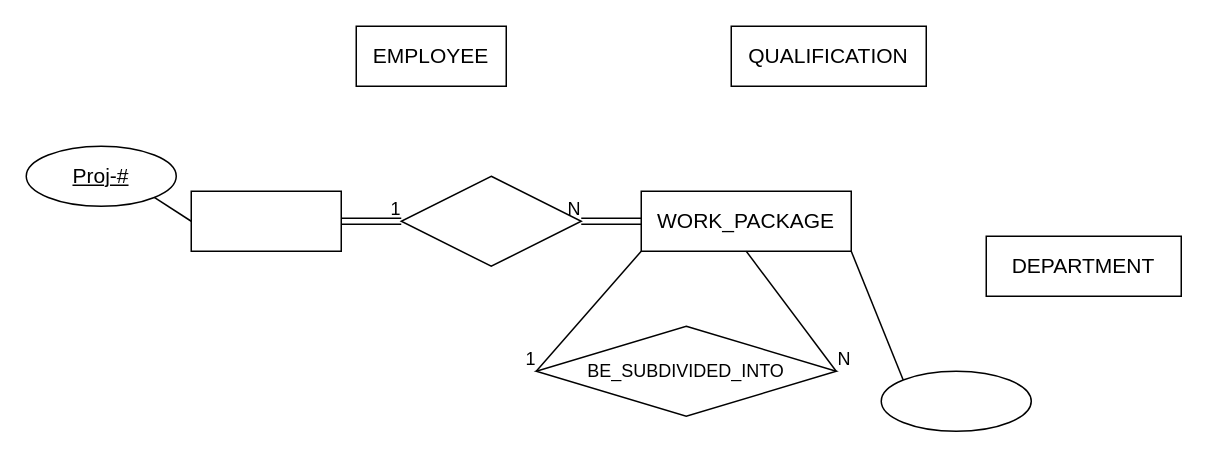
This 1208x458 diagram has some shape labels left out. Each missing label, with the centre of its shape:
"CONSIST_OF" goes at (490,220).
"PROJECT" goes at (265,220).
"WP-#" goes at (955,400).
